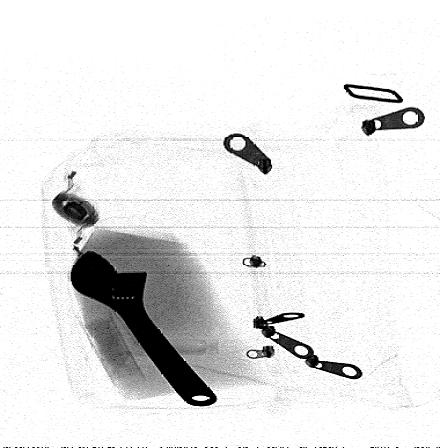Wrench: (68, 250, 220, 408)
